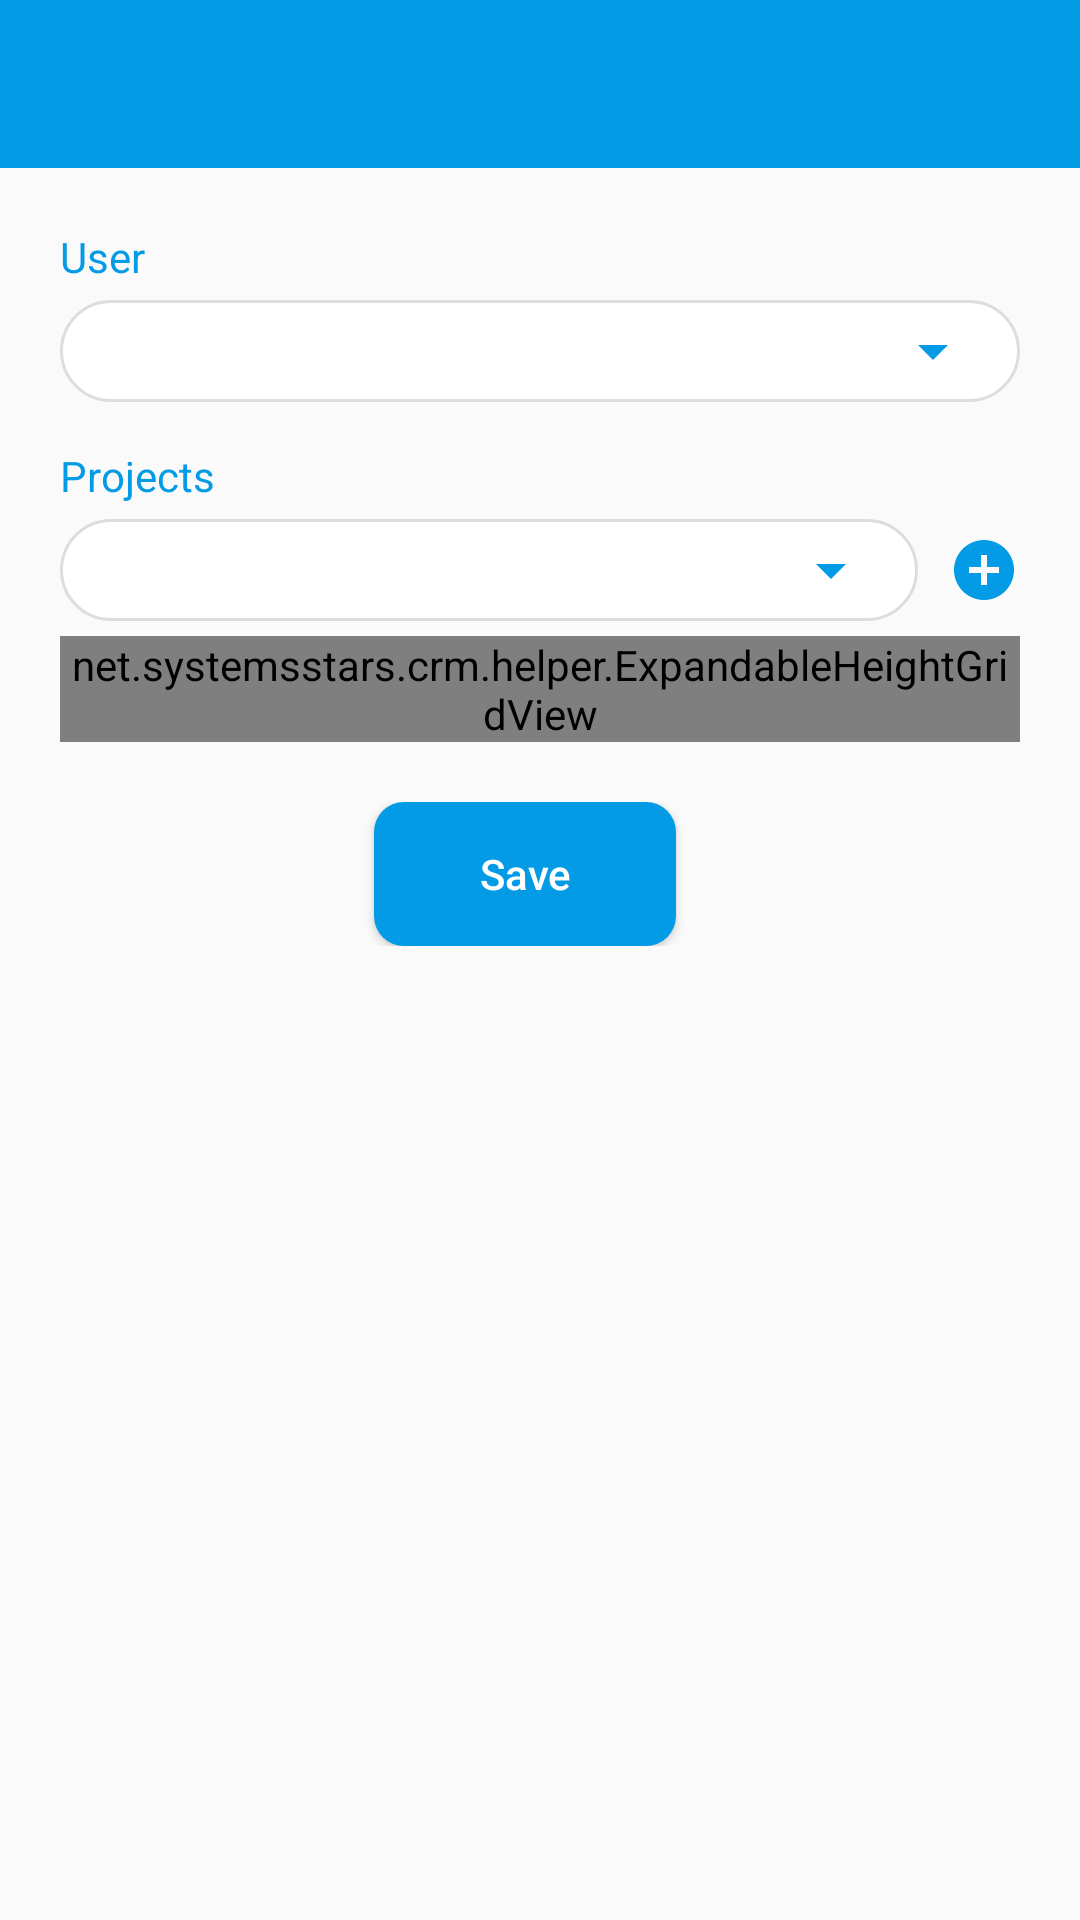

Icon bounding boxes for this 1080px×1920px phone screenshot, format {"x1": x1, "y1": y1, "x2": x2, "y2": y2}:
add: {"x1": 954, "y1": 540, "x2": 1014, "y2": 600}
